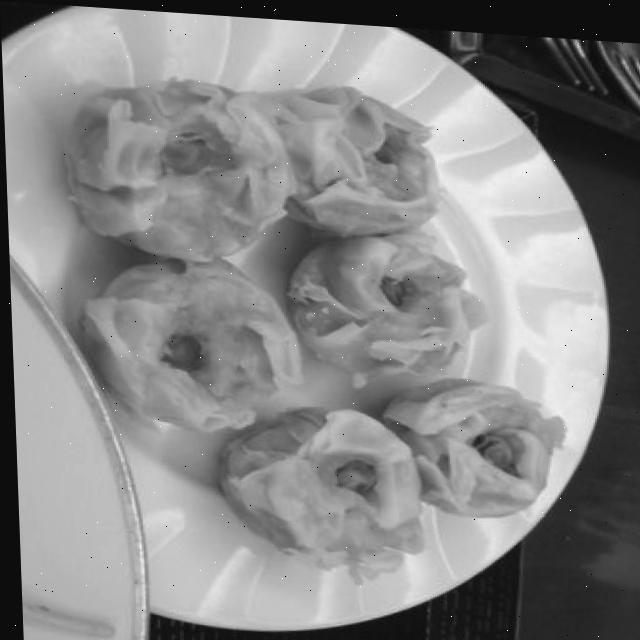带馅早点: (55, 73, 302, 265), (78, 253, 301, 432), (289, 222, 494, 389), (393, 380, 585, 510)
